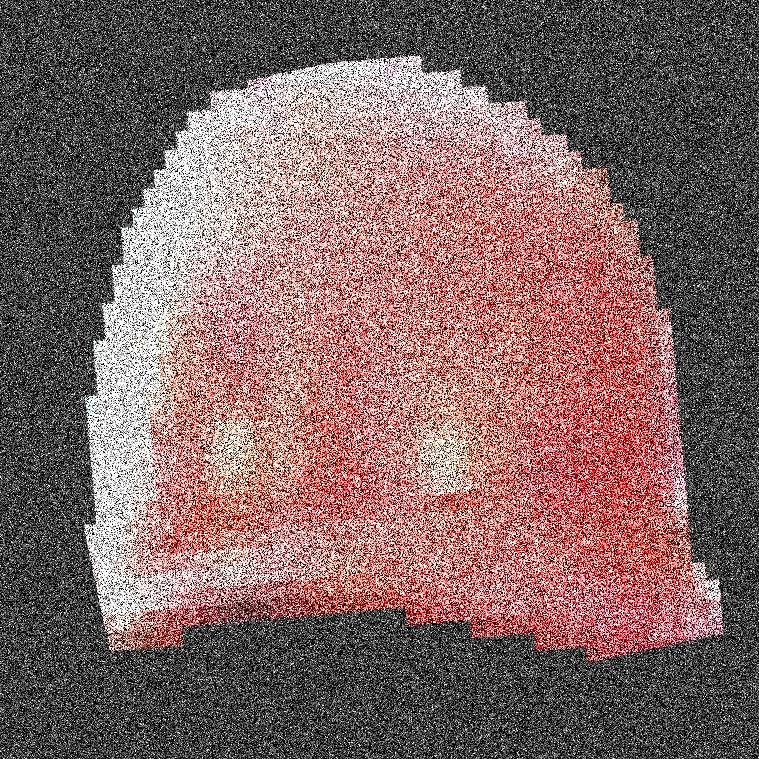Capacete: (199, 0, 758, 758)
